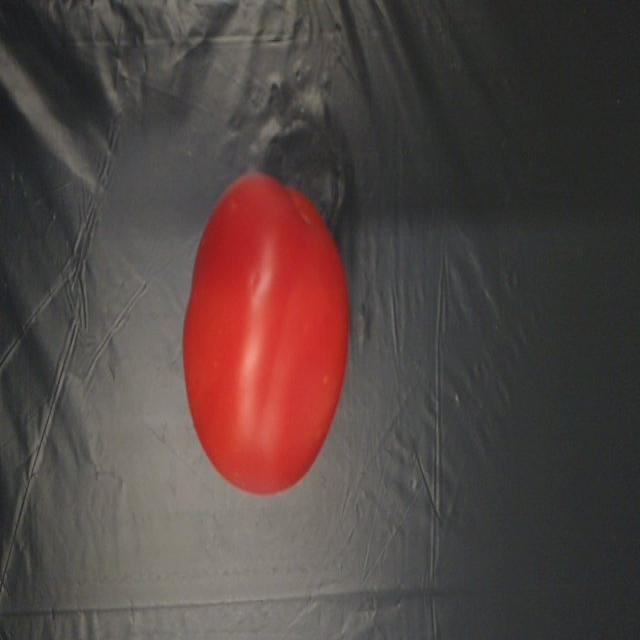kirmizi: (172, 134, 370, 508)
